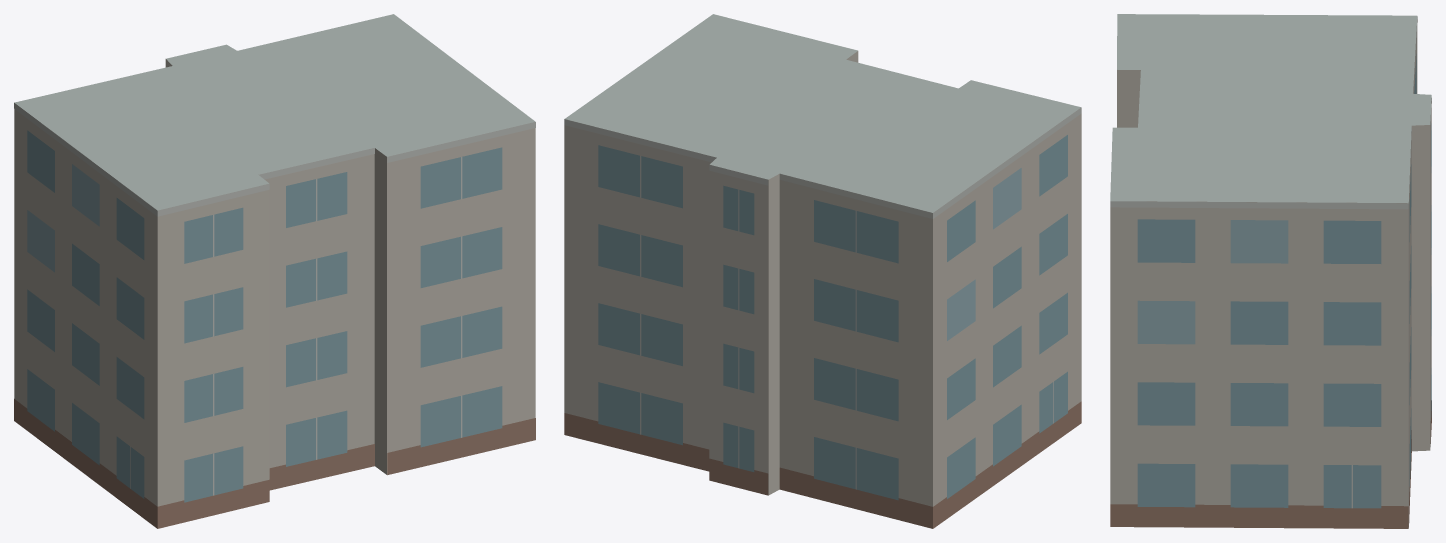
The model's file is survey-upis-32499916.glb.
The picture shows the model from 3 angles, left to right: view 1: azimuth 30°, elevation 25°; view 2: azimuth 150°, elevation 25°; view 3: azimuth 270°, elevation 25°; orthographic projection. The views are drawn at different scales.
Parts seen in each view (by area): view 1: survey-upis-32499916.tmp; view 2: survey-upis-32499916.tmp; view 3: survey-upis-32499916.tmp.
Boxes of the visible parts, x1,y1,x2,y2 form: survey-upis-32499916.tmp: [14, 14, 535, 528]; survey-upis-32499916.tmp: [564, 14, 1081, 528]; survey-upis-32499916.tmp: [1110, 14, 1431, 528].
Size of the model in its own units: 15.76 by 12.65 by 11.33.
